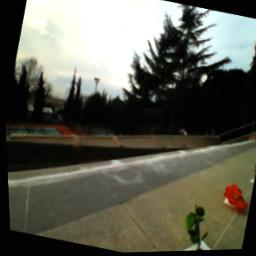herb: (176, 202, 213, 249)
wild: (217, 183, 251, 218)
